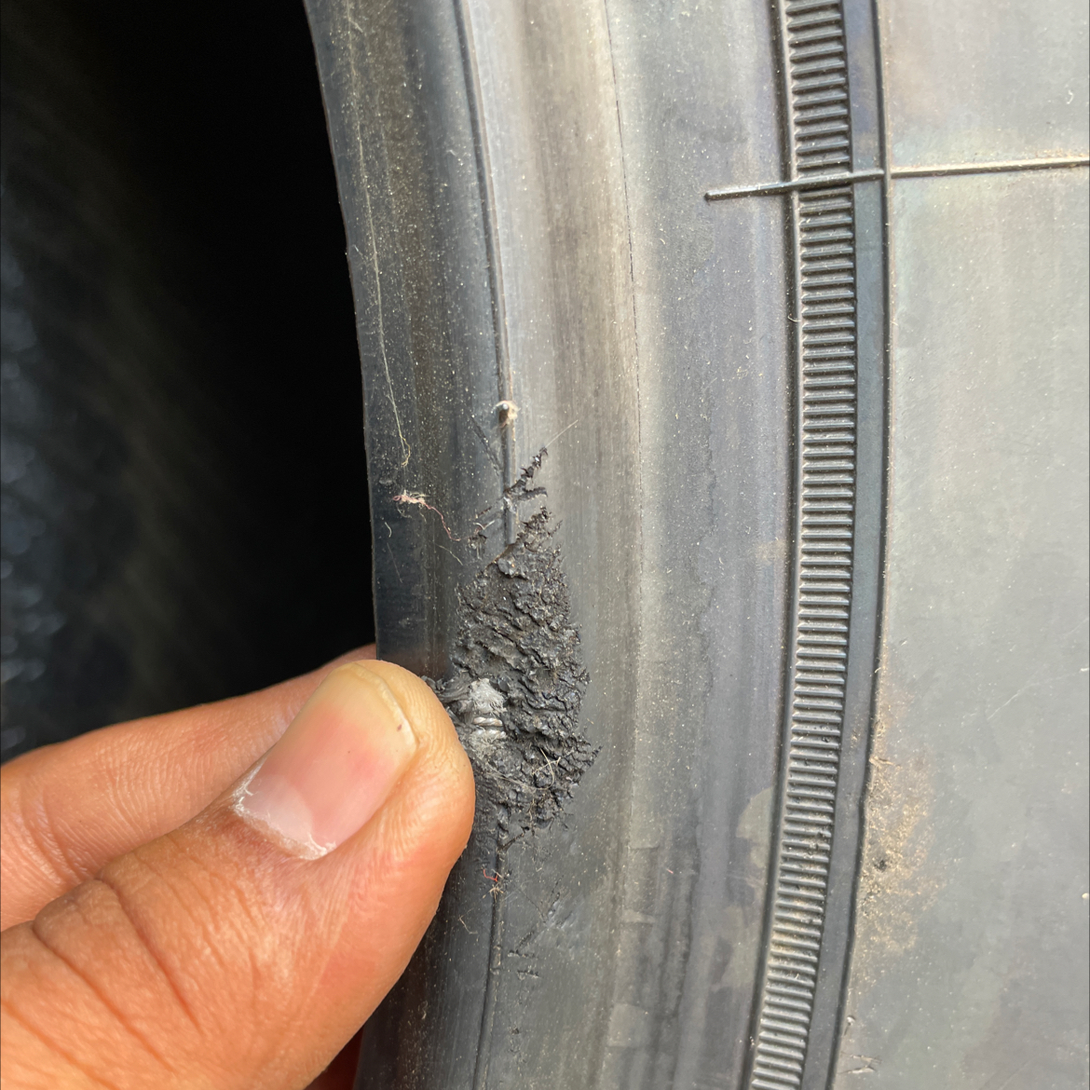tr: (383, 410, 619, 981)
